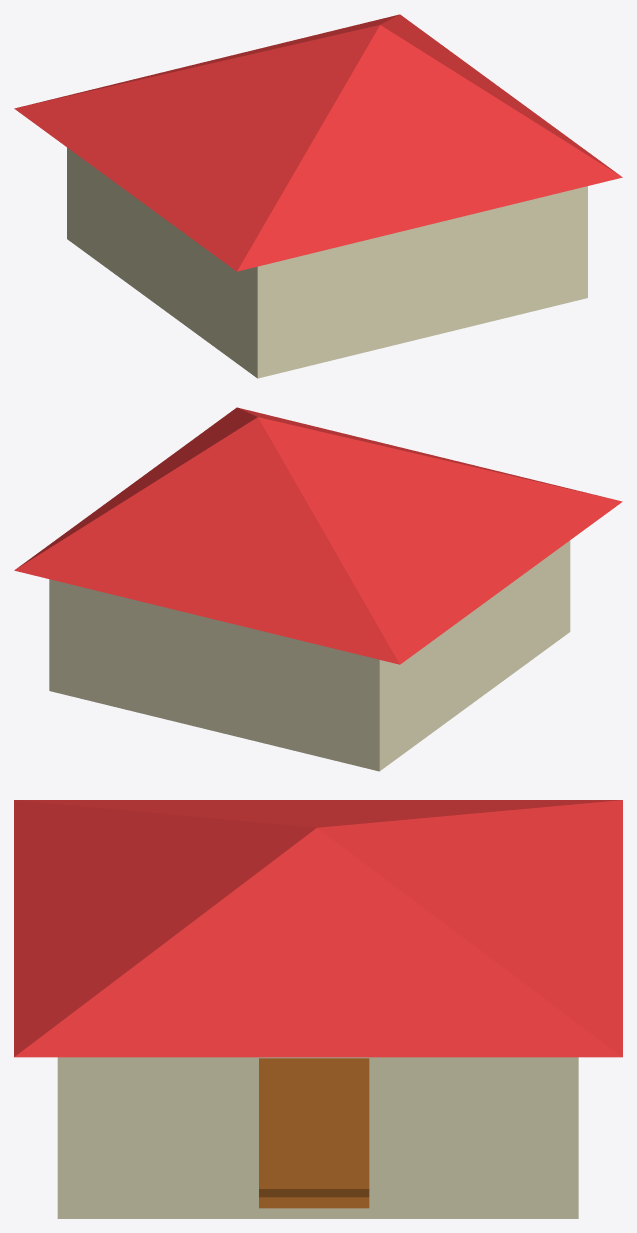
Rendered from house.fbx.
The picture shows the model from 3 angles, top to bottom: view 1: azimuth 30°, elevation 25°; view 2: azimuth 150°, elevation 25°; view 3: azimuth 270°, elevation 25°; orthographic projection. The views are drawn at different scales.
Visible parts, largest first — view 1: House; view 2: House; view 3: House.
Boxes of the visible parts, x1,y1,x2,y2 form: House: (14,14,622,378); House: (14,407,622,771); House: (14,800,622,1218).
Size of the model in its own units: 1169 by 669 by 1169.
